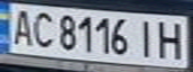1: (93, 15, 112, 54), (75, 14, 93, 53)
6: (109, 15, 133, 56)
8: (54, 11, 78, 52)
A: (6, 6, 36, 47)
C: (30, 8, 57, 48)
H: (154, 17, 190, 61)
I: (133, 17, 160, 59)
